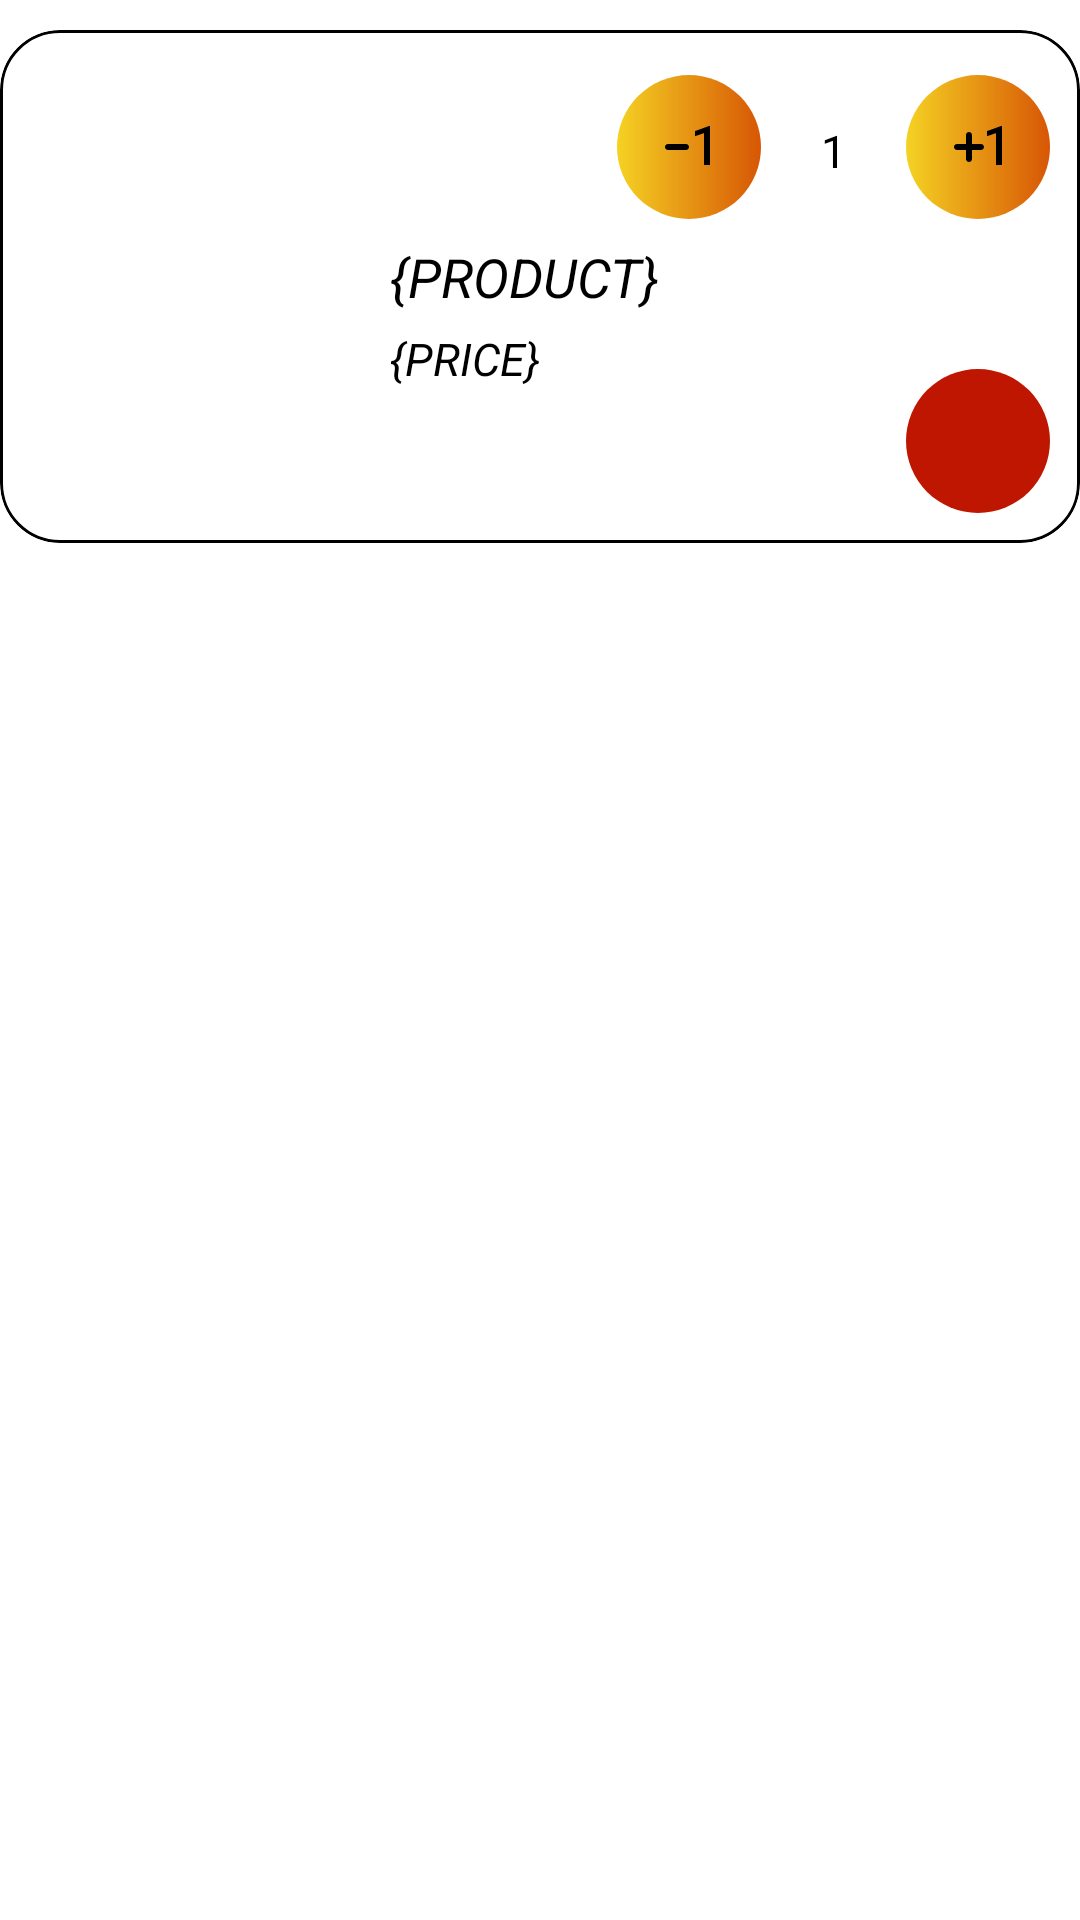

Where to tap for icons on this 1080×1920 app screen, as [x,y]:
neg: [689,147]
plus: [978,147]
